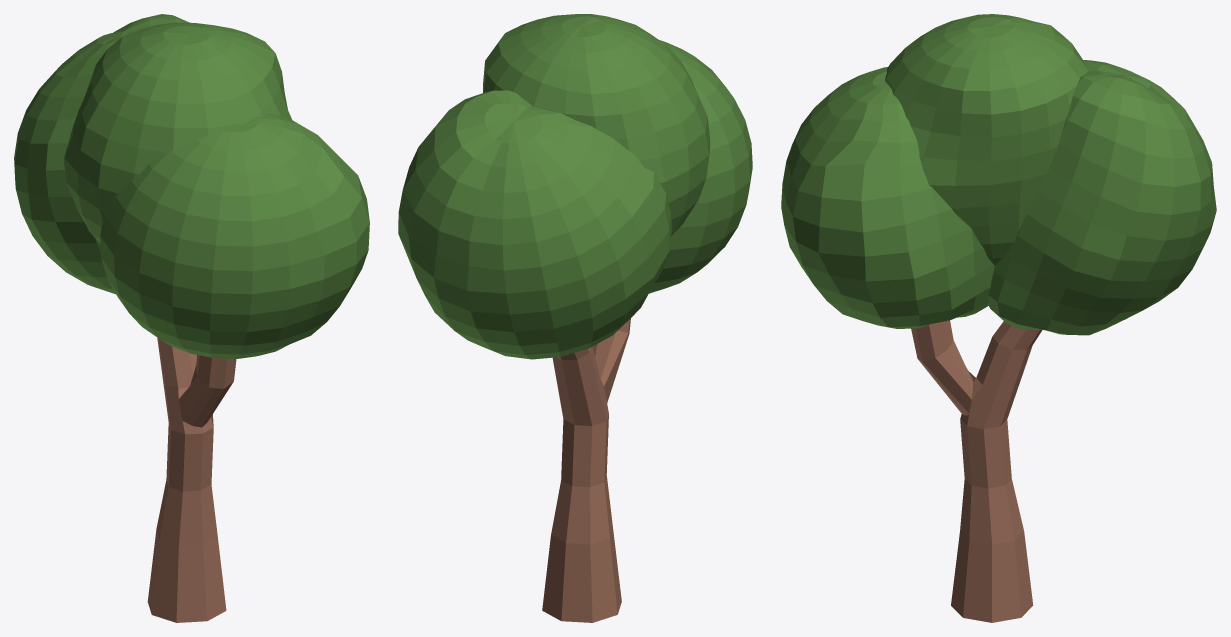
The model's file is Tree1.fbx.
The picture shows the model from 3 angles, left to right: view 1: azimuth 30°, elevation 25°; view 2: azimuth 150°, elevation 25°; view 3: azimuth 270°, elevation 25°; orthographic projection.
Visible parts, largest first — view 1: Sphere, Sphere.002, Cylinder.001, Sphere.001; view 2: Sphere.001, Sphere.002, Cylinder.001, Sphere; view 3: Sphere.001, Sphere, Sphere.002, Cylinder.001.
Part boxes in pixels (x1=…): Sphere: x1=100, y1=114, x2=369, y2=359; Sphere.002: x1=64, y1=22, x2=291, y2=243; Cylinder.001: x1=147, y1=338, x2=236, y2=622; Sphere.001: x1=14, y1=14, x2=188, y2=294; Sphere.001: x1=398, y1=90, x2=672, y2=359; Sphere.002: x1=483, y1=14, x2=710, y2=235; Cylinder.001: x1=542, y1=318, x2=630, y2=622; Sphere: x1=649, y1=40, x2=752, y2=293; Sphere.001: x1=988, y1=60, x2=1216, y2=335; Sphere: x1=781, y1=67, x2=994, y2=328; Sphere.002: x1=885, y1=14, x2=1088, y2=265; Cylinder.001: x1=911, y1=320, x2=1042, y2=622.
Bounding box in the file's own units: 93.42 × 219 × 149.
